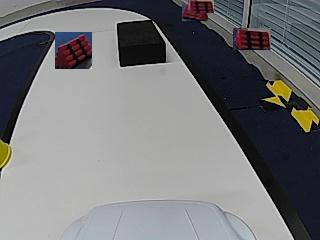block: (117, 19, 165, 66)
cone: (0, 139, 12, 168)
